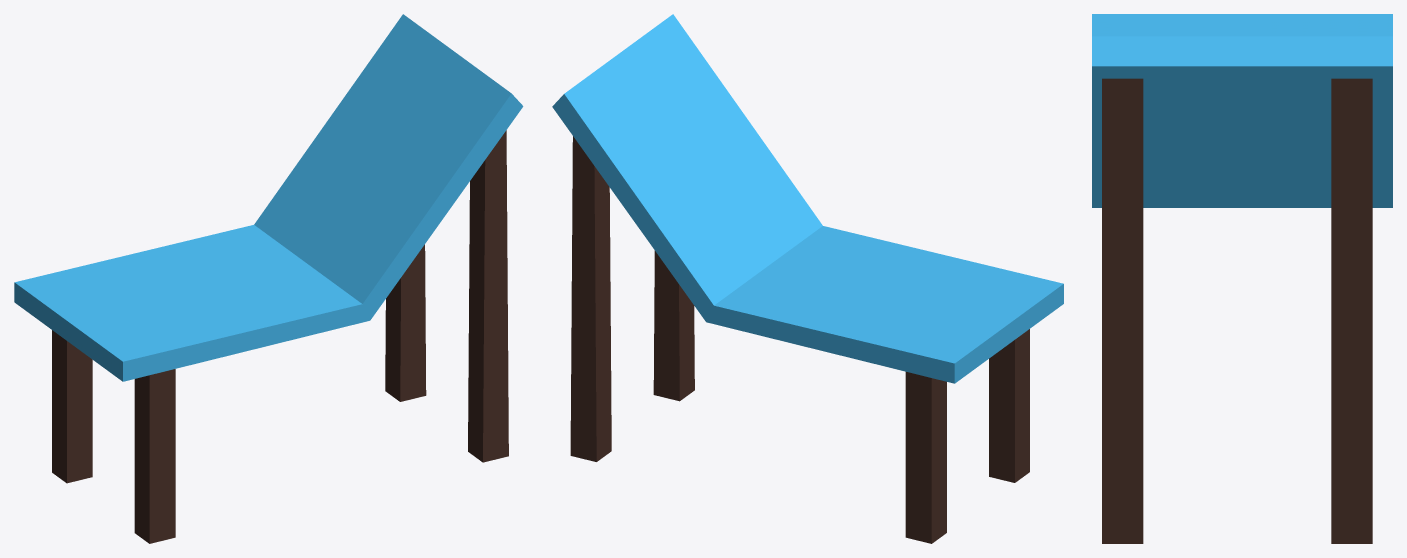
The model's file is bed.glb.
3 renders of one model, left to right at view 1: azimuth 30°, elevation 25°; view 2: azimuth 150°, elevation 25°; view 3: azimuth 270°, elevation 25°, orthographic. The views are drawn at different scales.
Visible parts, largest first — view 1: Bed; view 2: Bed; view 3: Bed.
Boxes of the visible parts, bbox=[...] form: Bed: bbox=[14, 14, 523, 543]; Bed: bbox=[552, 14, 1063, 543]; Bed: bbox=[1092, 14, 1392, 543].
Bounding box in the file's own units: 5.19 × 4.53 × 2.43.
